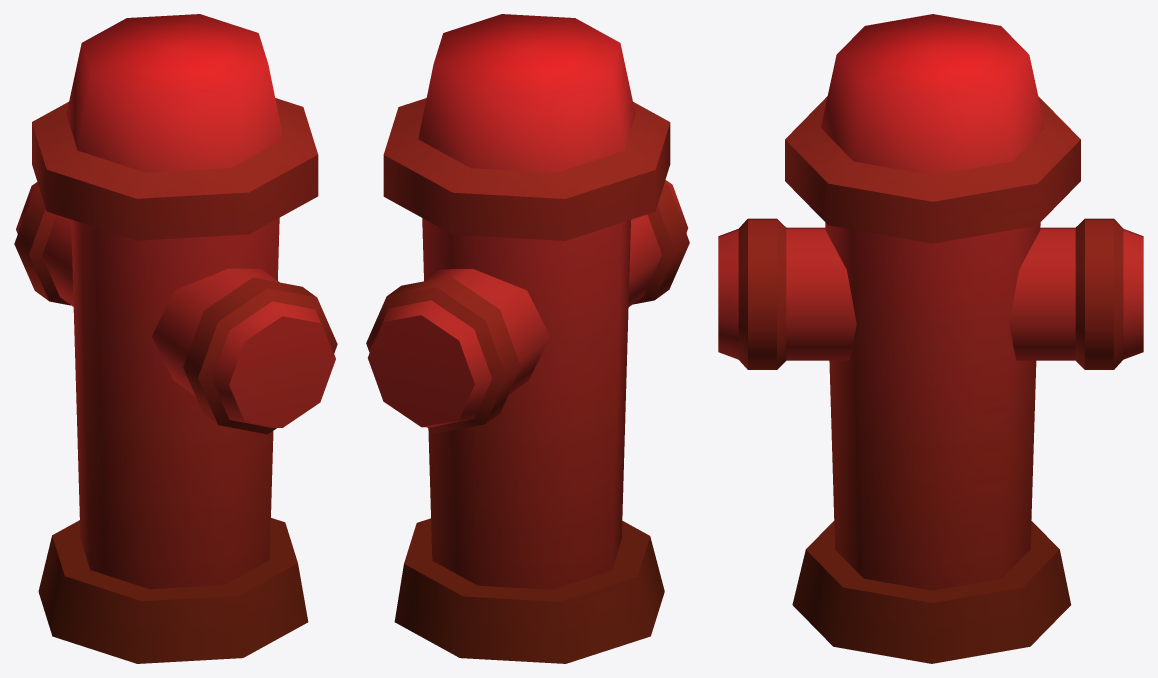
Rendered from Hydrant.fbx.
3 views of the same model, side by side, from view 1: azimuth 30°, elevation 25°; view 2: azimuth 150°, elevation 25°; view 3: azimuth 270°, elevation 25° (orthographic).
Parts seen in each view (by area): view 1: Hydrant; view 2: Hydrant; view 3: Hydrant.
Boxes of the visible parts, x1=… form: Hydrant: x1=14, y1=14, x2=337, y2=663; Hydrant: x1=366, y1=14, x2=689, y2=663; Hydrant: x1=718, y1=14, x2=1143, y2=663.
Bounding box in the file's own units: 41.27 × 85.65 × 59.33.
